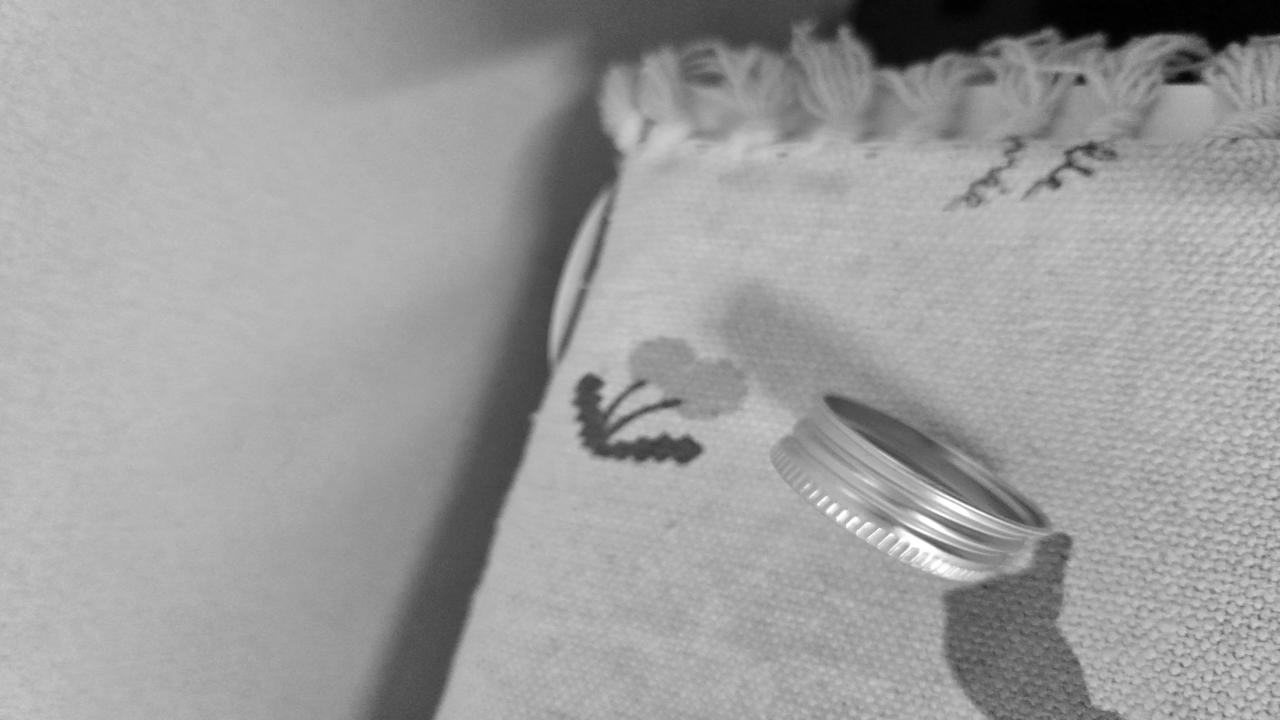bottle_cap: (761, 389, 1067, 586)
